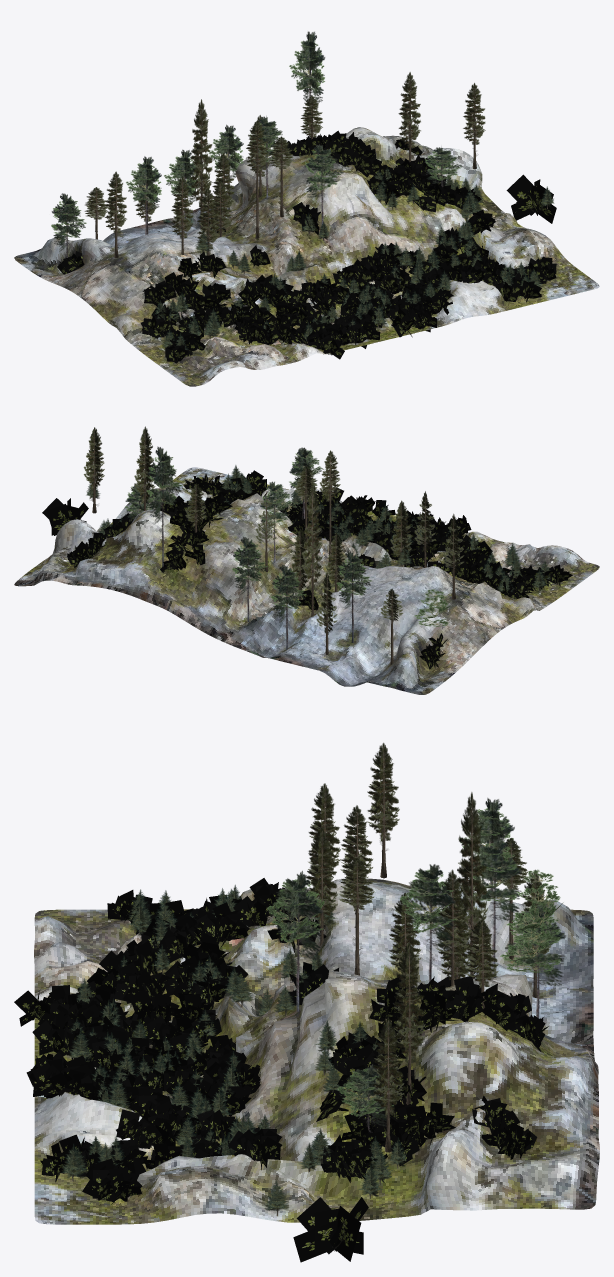
The model's file is the-landscape-is-a-forest-in-the-mountains.glb.
3 views of the same model, one above another, from view 1: azimuth 30°, elevation 25°; view 2: azimuth 150°, elevation 25°; view 3: azimuth 270°, elevation 25° (orthographic). The views are drawn at different scales.
Visible parts, largest first — view 1: 05ade0e713892be558511d706fa6c547-no-bg-preview (carve.photos; view 2: 05ade0e713892be558511d706fa6c547-no-bg-preview (carve.photos; view 3: 05ade0e713892be558511d706fa6c547-no-bg-preview (carve.photos.
Boxes of the visible parts, x1,y1,x2,y2 form: 05ade0e713892be558511d706fa6c547-no-bg-preview (carve.photos: (14, 31, 599, 386); 05ade0e713892be558511d706fa6c547-no-bg-preview (carve.photos: (14, 426, 599, 694); 05ade0e713892be558511d706fa6c547-no-bg-preview (carve.photos: (14, 742, 599, 1262).
Size of the model in its own units: 33.66 by 13.04 by 23.4.
Materials: 10 (10 with a texture image).
